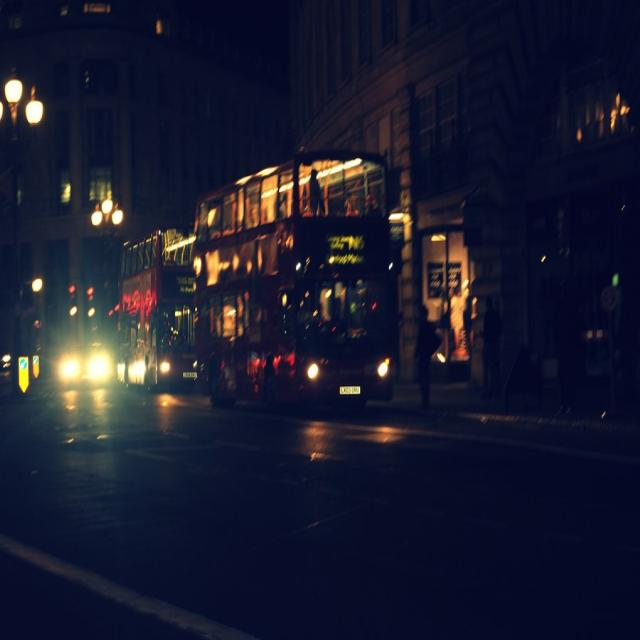Bus: (180, 155, 409, 435), (105, 198, 197, 440)
People: (542, 288, 585, 435), (414, 294, 448, 429), (478, 283, 501, 416)
